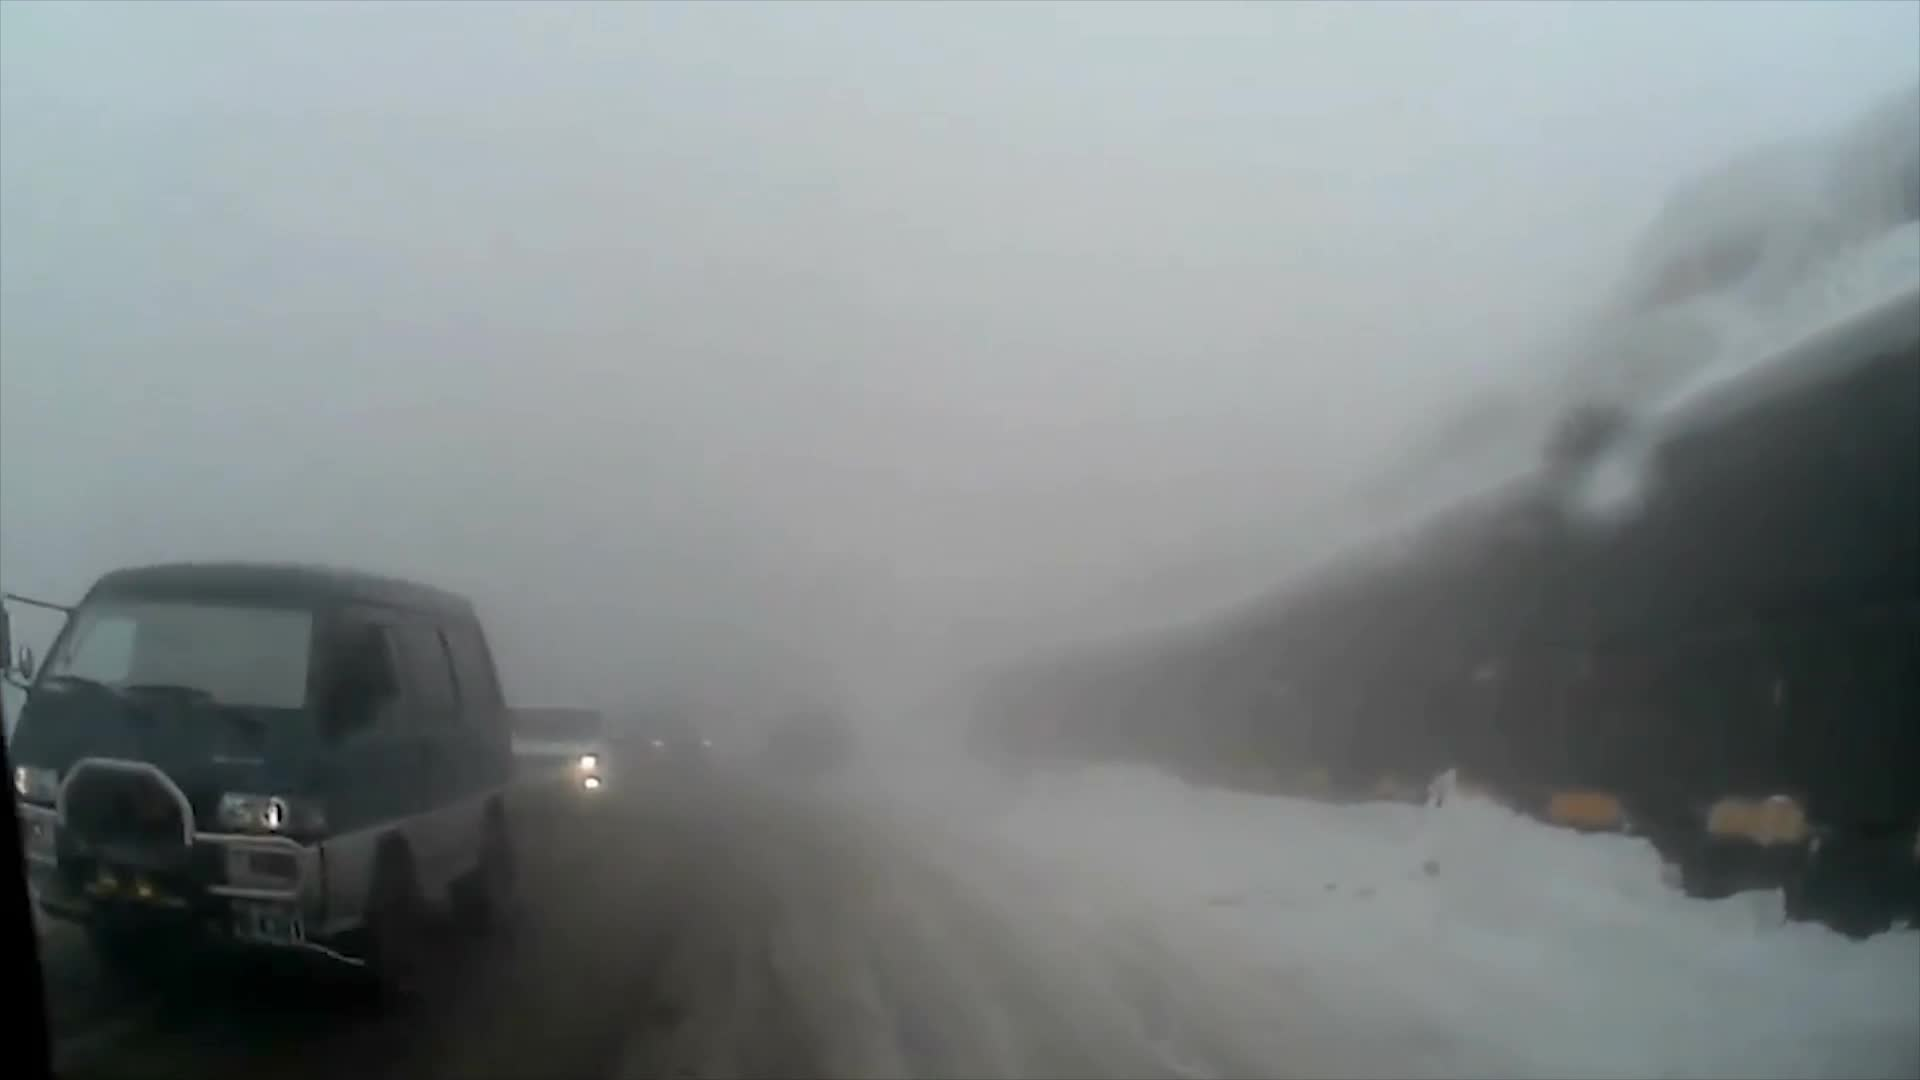vehicle: (3, 556, 521, 1013), (477, 702, 618, 822)
